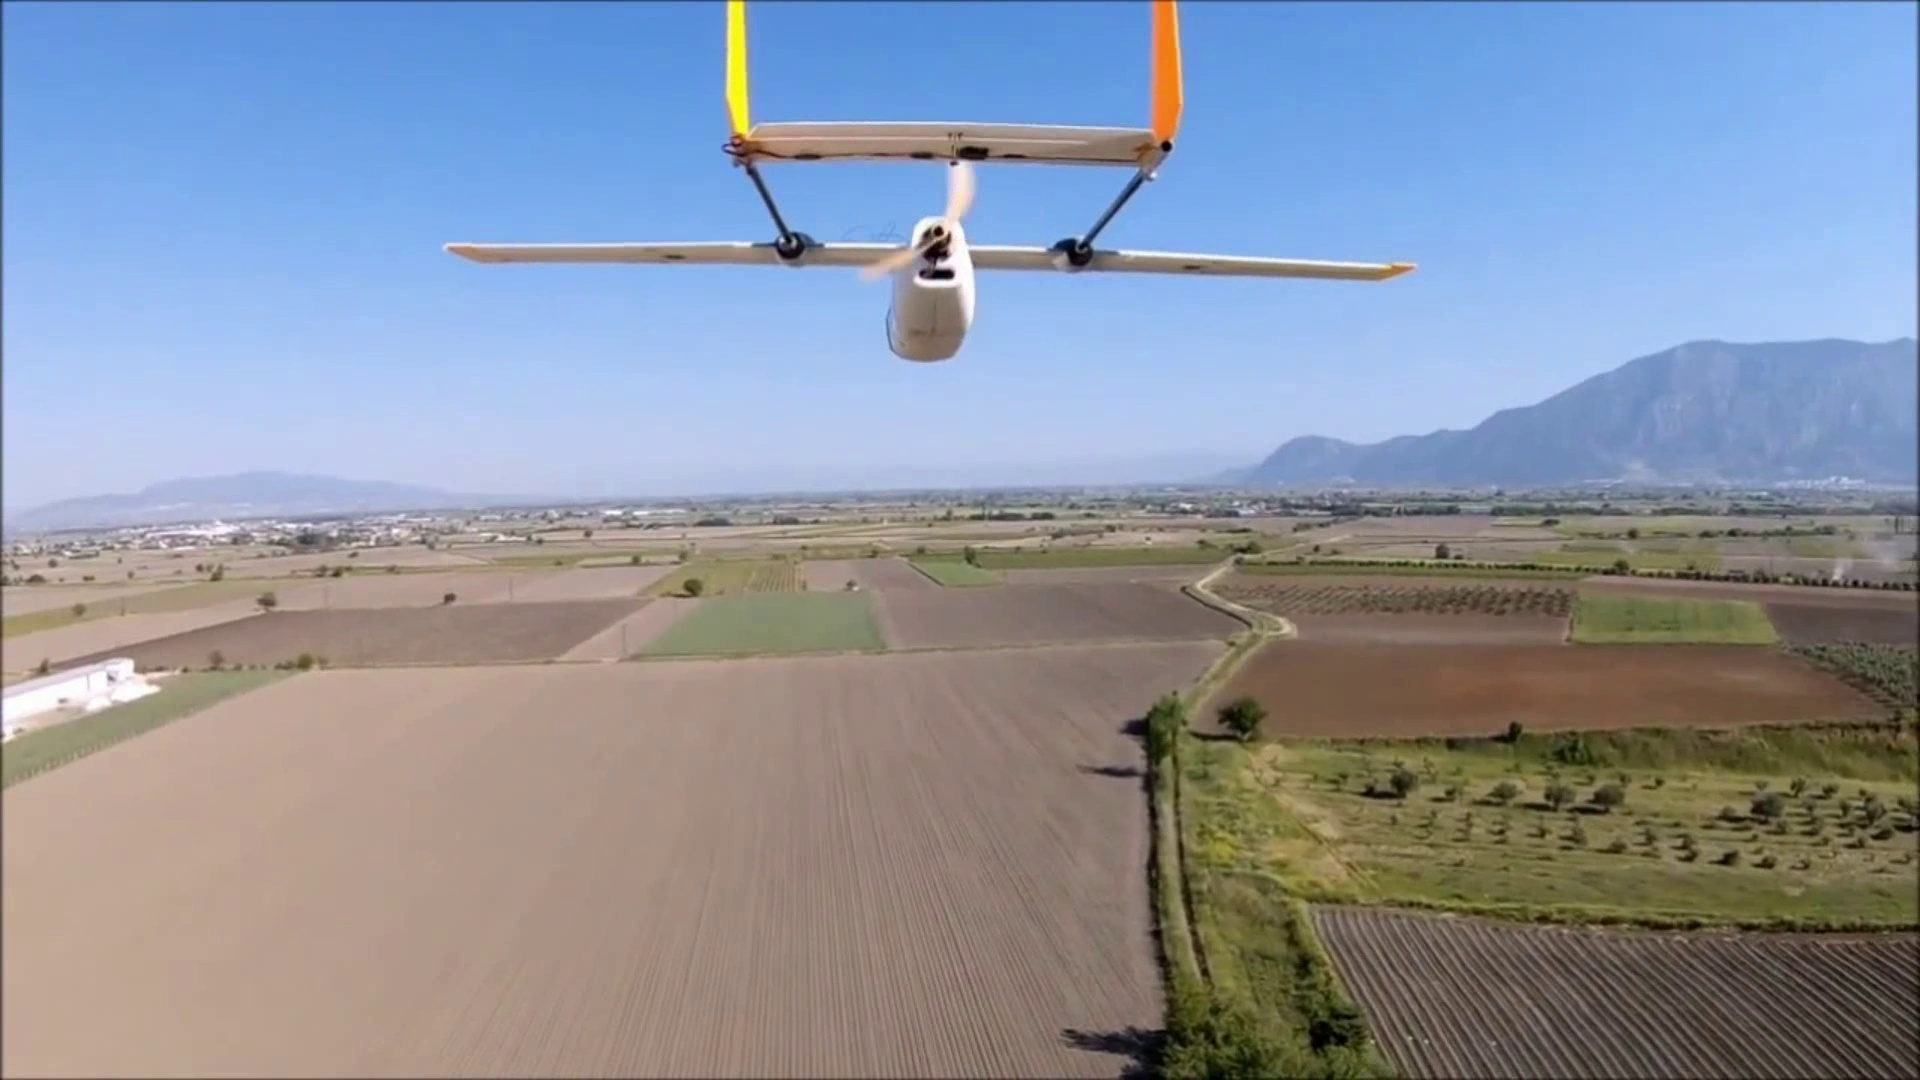airplane: (444, 4, 1412, 361)
